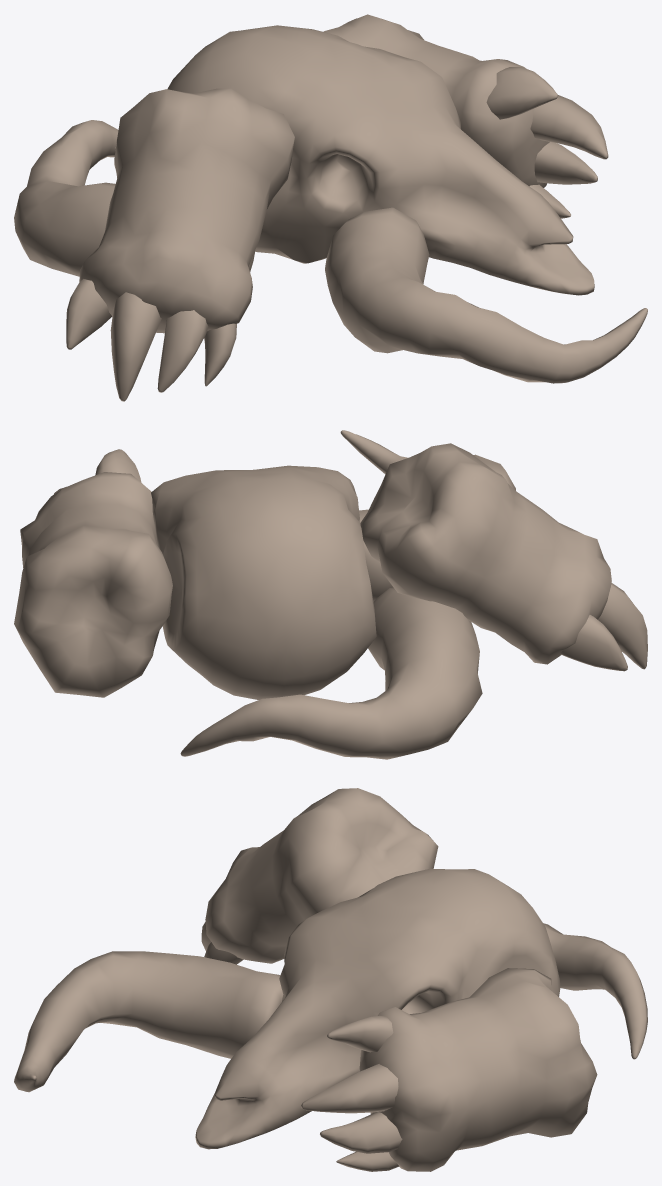
File: separatedPieces05.fbx
The picture shows the model from 3 angles, top to bottom: view 1: azimuth 30°, elevation 25°; view 2: azimuth 150°, elevation 25°; view 3: azimuth 270°, elevation 25°; orthographic projection. The views are drawn at different scales.
Visible parts, largest first — view 1: separatedPieces05b_LOD0; view 2: separatedPieces05b_LOD0; view 3: separatedPieces05b_LOD0.
Boxes of the visible parts, x1,y1,x2,y2 form: separatedPieces05b_LOD0: (14,14,647,401); separatedPieces05b_LOD0: (14,430,647,759); separatedPieces05b_LOD0: (14,788,647,1171).
Size of the model in its own units: 112 by 44.78 by 120.
